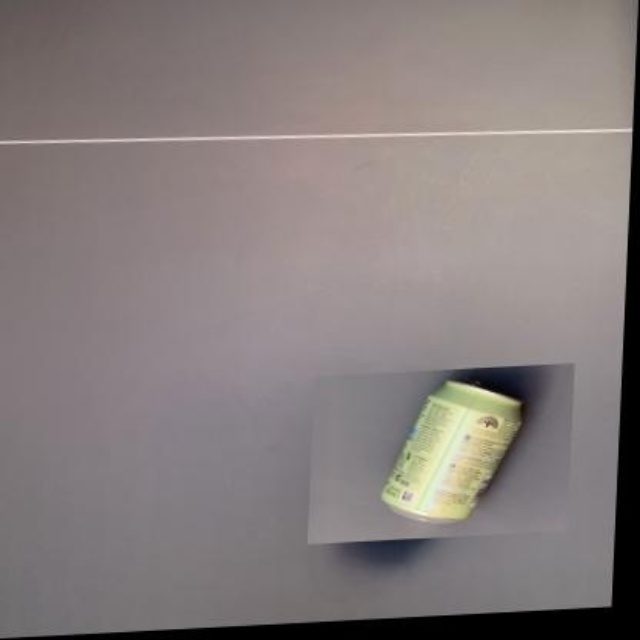trash: (382, 380, 520, 520)
